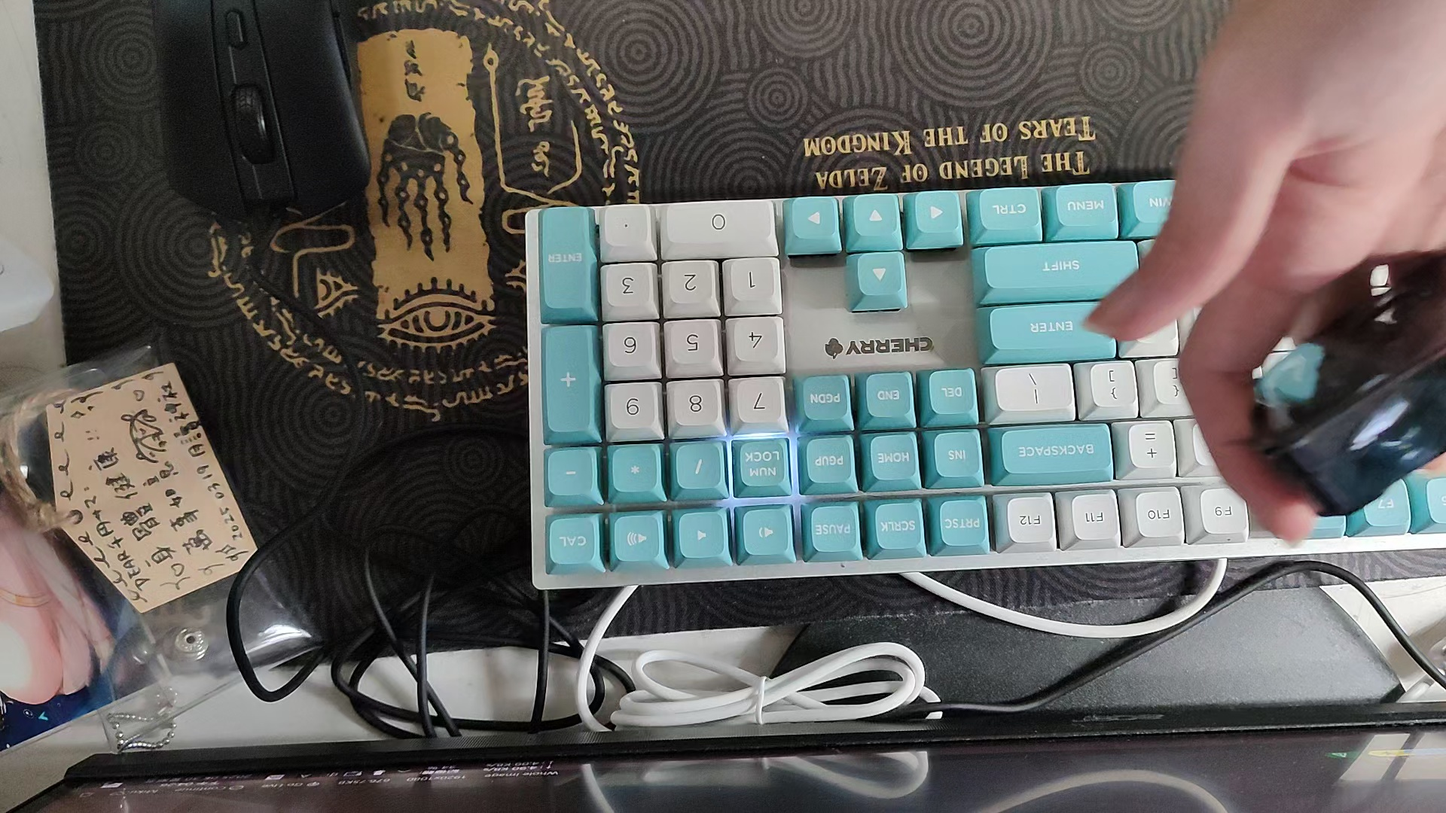Wireless_earphone: (1241, 245, 1446, 517)
